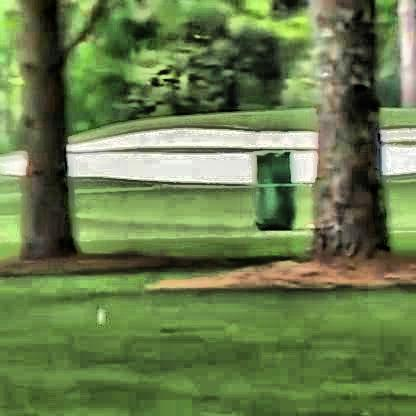golfball: (94, 299, 104, 318)
